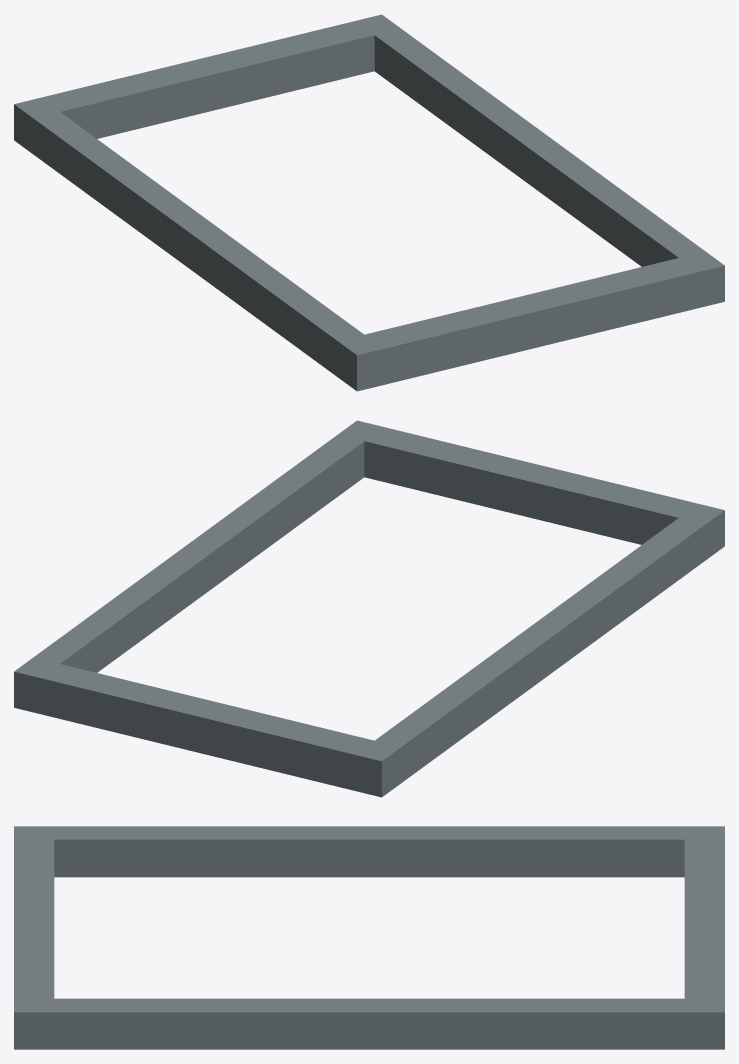
The model's file is 087_DP_retailWindow.gltf.
3 renders of one model, top to bottom at view 1: azimuth 30°, elevation 25°; view 2: azimuth 150°, elevation 25°; view 3: azimuth 270°, elevation 25°, orthographic. The views are drawn at different scales.
Visible parts, largest first — view 1: DP_retailWindow; view 2: DP_retailWindow; view 3: DP_retailWindow.
Part boxes in pixels (x1,y1,x2,y2): DP_retailWindow: (14, 14, 724, 391); DP_retailWindow: (14, 420, 724, 797); DP_retailWindow: (14, 826, 724, 1049).
Bounding box in the file's own units: 4.74 × 0.4453 × 7.66.
Materials: 1 (1 with a texture image).
